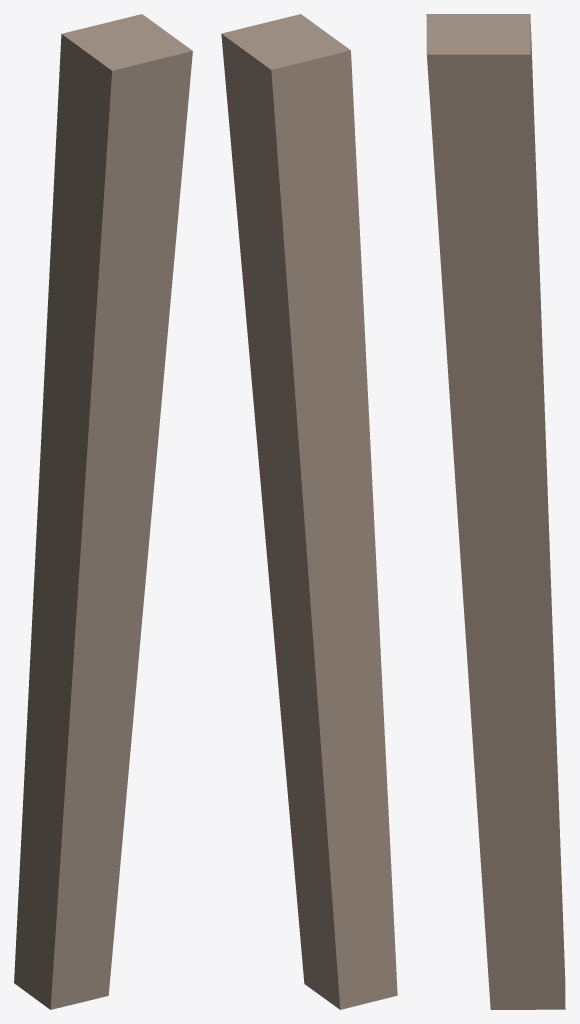
File: leg3.obj
3 views of the same model, side by side, from view 1: azimuth 30°, elevation 25°; view 2: azimuth 210°, elevation 25°; view 3: azimuth 270°, elevation 25° (orthographic). The views are drawn at different scales.
Parts seen in each view (by area): view 1: leg3; view 2: leg3; view 3: leg3.
Boxes of the visible parts, x1,y1,x2,y2 form: leg3: (14,14,192,1009); leg3: (221,14,397,1009); leg3: (426,14,565,1009).
Size of the model in its own units: 2.54 by 20.73 by 2.66.
